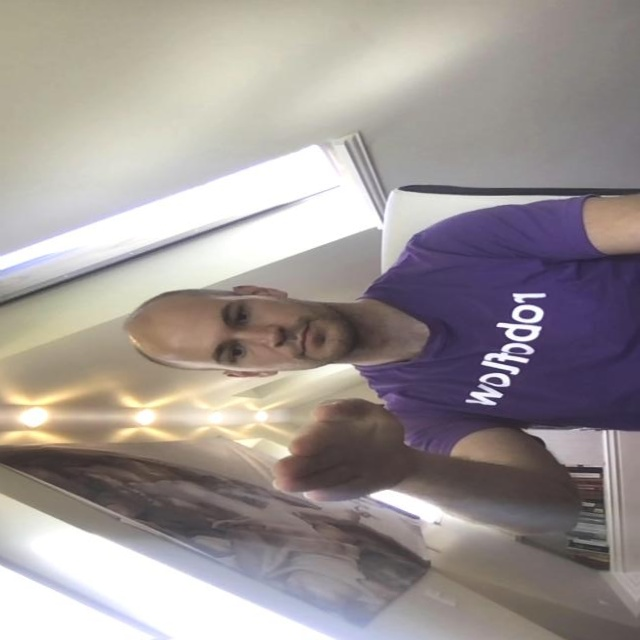Paper: (262, 393, 420, 512)
